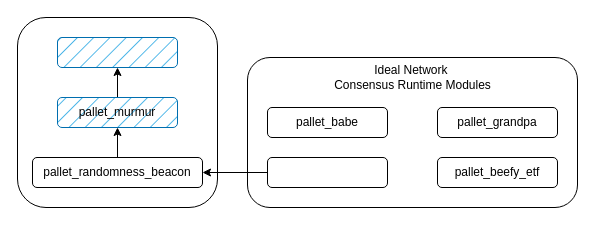
The diagram is 595 pixels wide and 225 high, and some of its shapes have lost their labels. The centre of each missing label's shape, as x and y in pixels:
"pallet_etf" belongs at point 327,172.
"pallet_proxy*" belongs at point 117,52.
